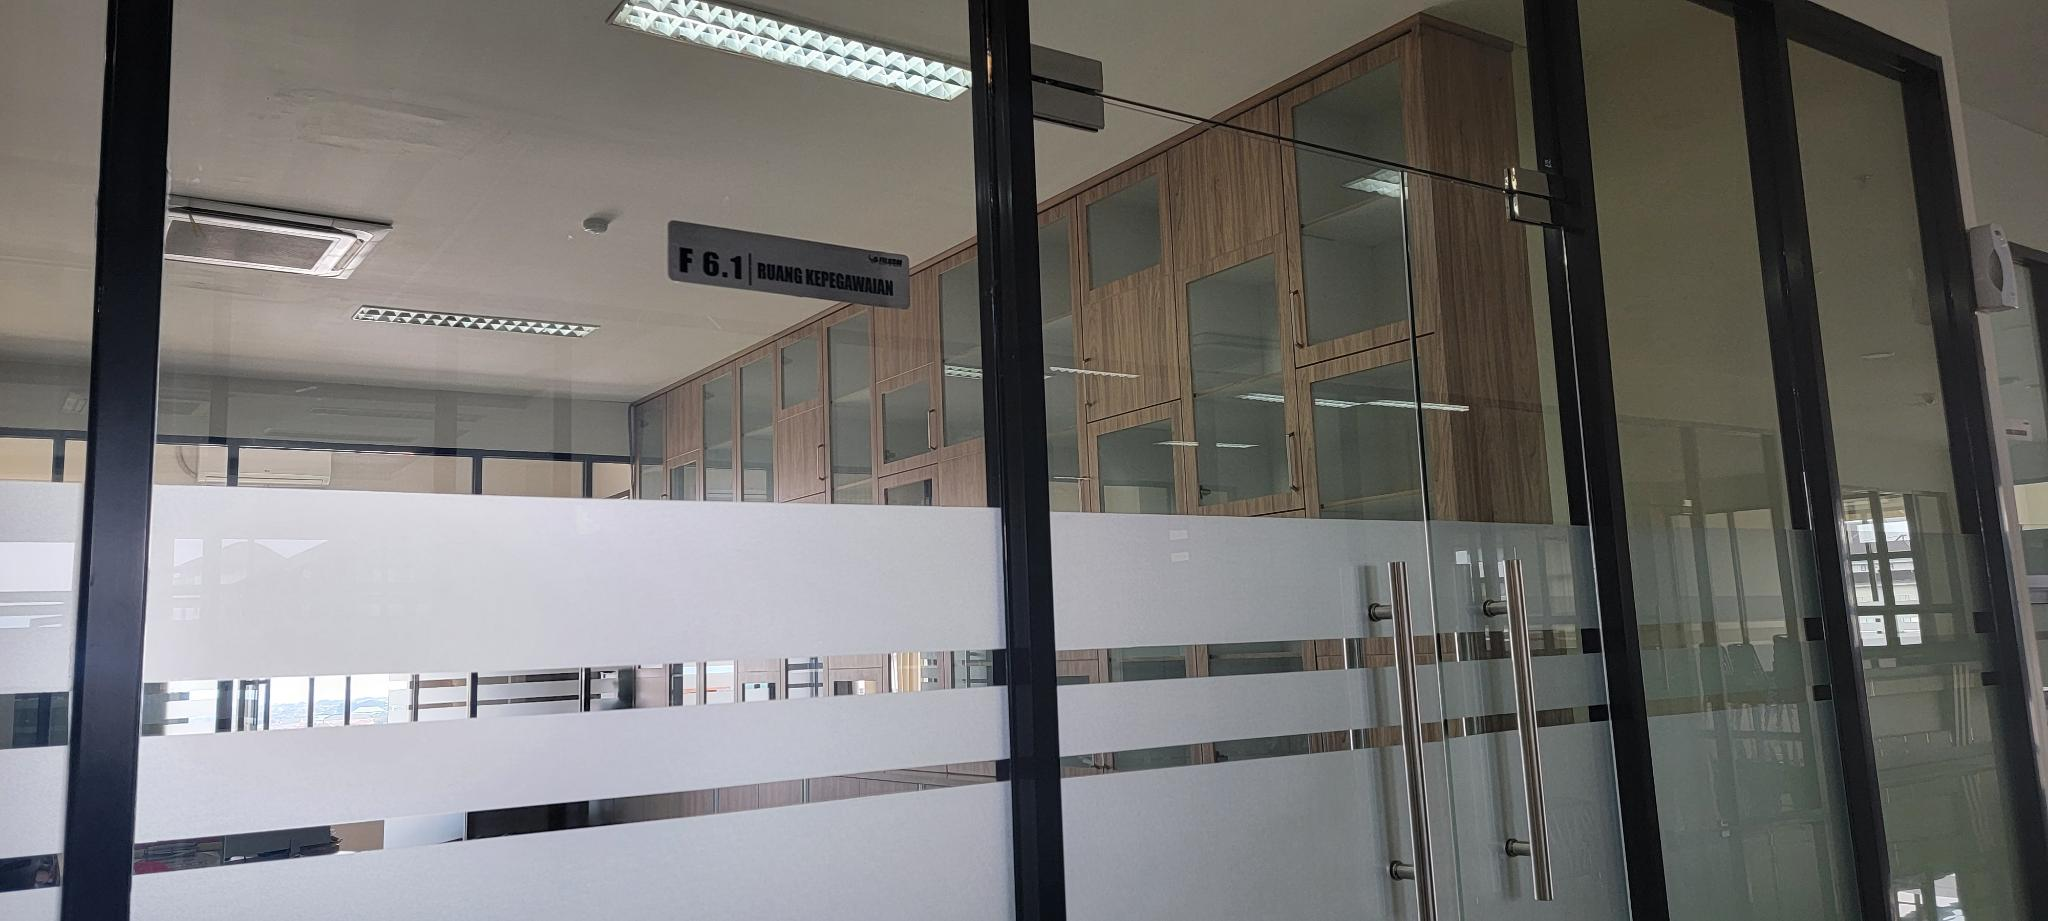plate: (667, 219, 910, 310)
